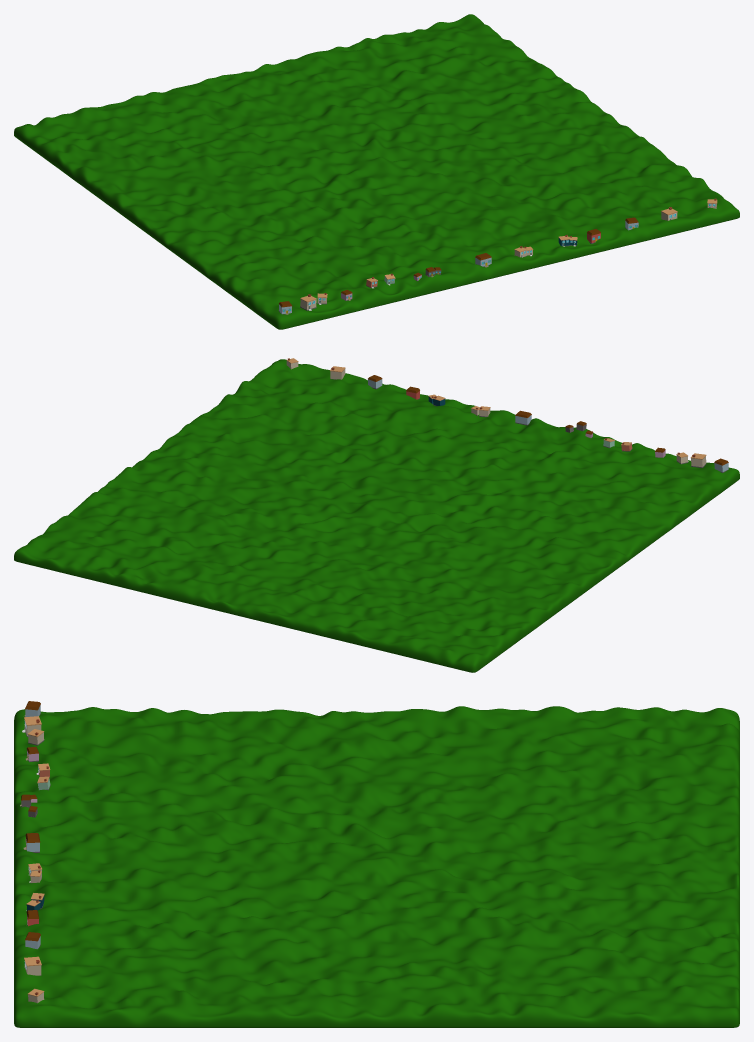
Rendered from FixedBG.fbx.
The picture shows the model from 3 angles, top to bottom: view 1: azimuth 30°, elevation 25°; view 2: azimuth 150°, elevation 25°; view 3: azimuth 270°, elevation 25°; orthographic projection. The views are drawn at different scales.
Parts seen in each view (by area): view 1: Plane; view 2: Plane; view 3: Plane.
Boxes of the visible parts, box(x1,y1,x2,y2) form: Plane: box(14, 14, 739, 329); Plane: box(14, 358, 739, 672); Plane: box(14, 701, 739, 1027).
Size of the model in its own units: 200 by 8.8 by 200.
